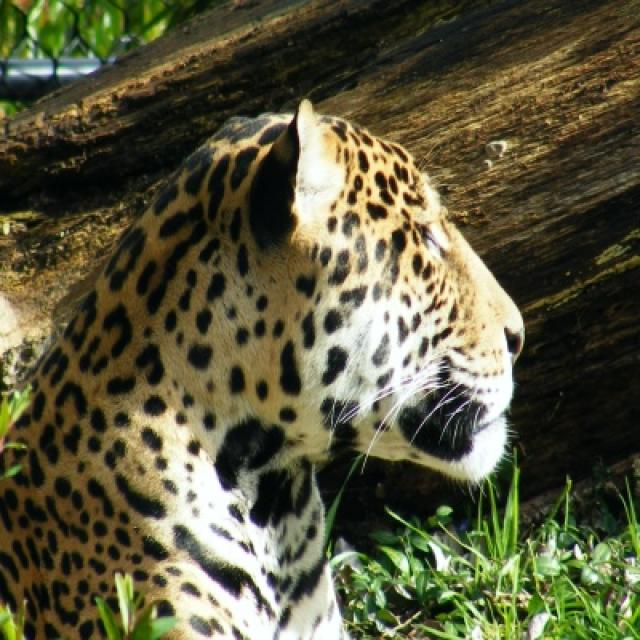Jaguar: (0, 99, 525, 638)
